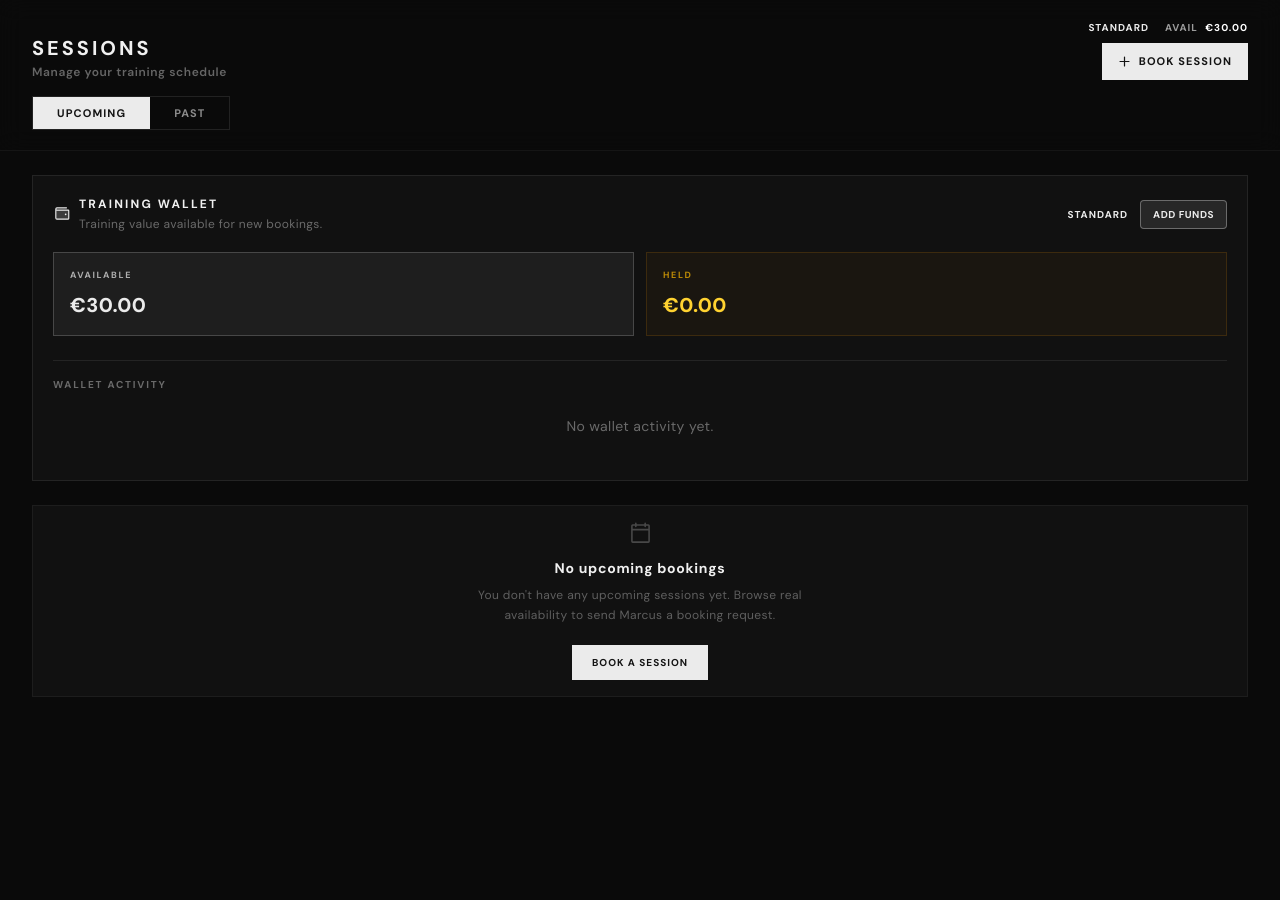
Test: Sessions booking integration › shows the exact wallet shortfall before creating a booking
Step 1. Click the button with test id "book-session-button" → (1175, 61), box left=1102, top=43, right=1248, bottom=80
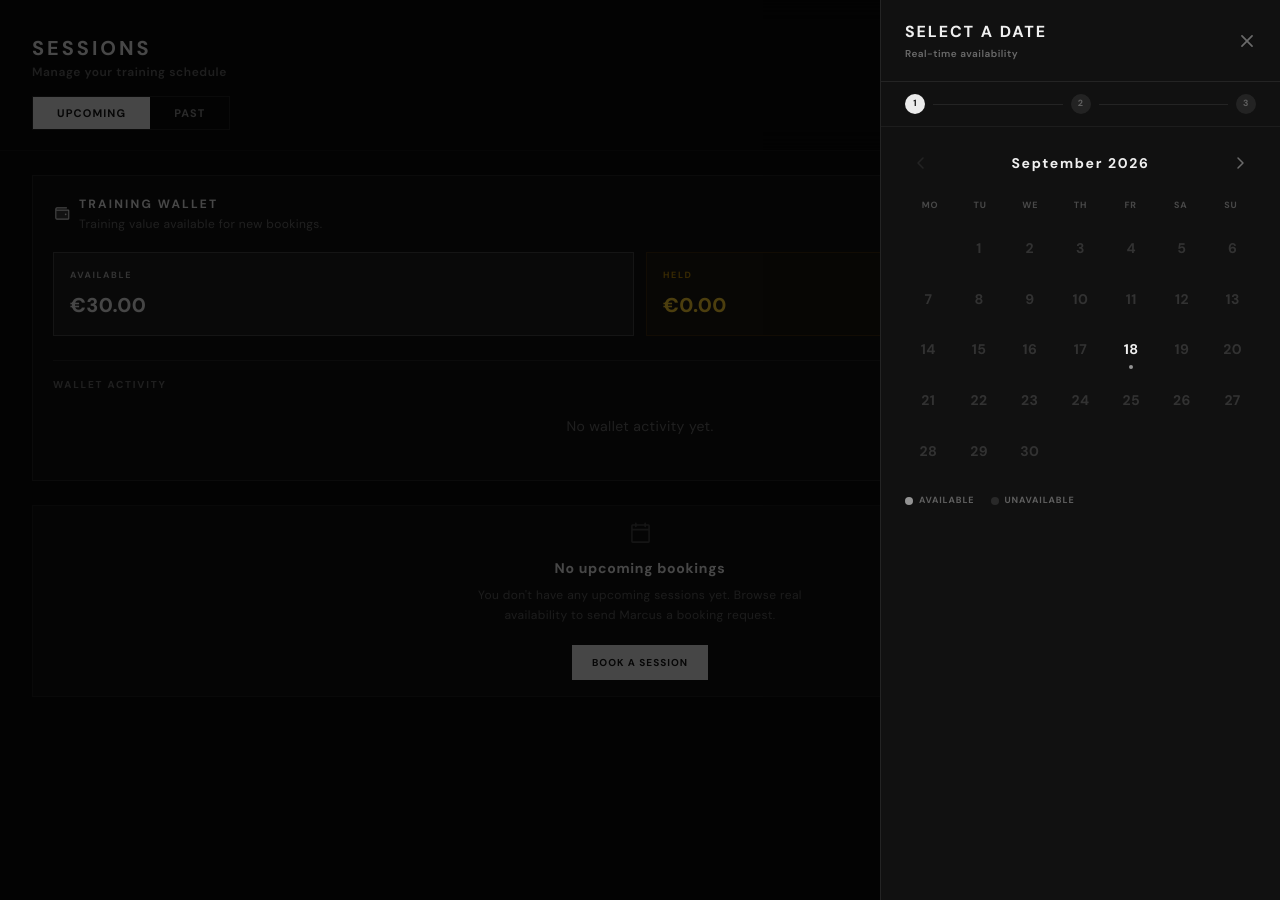
expect the element with test id "booking-sheet" is shown: met, box left=880, top=0, right=1279, bottom=899
Step 2. Click the button "18" → (1131, 349), box left=1108, top=326, right=1154, bottom=373
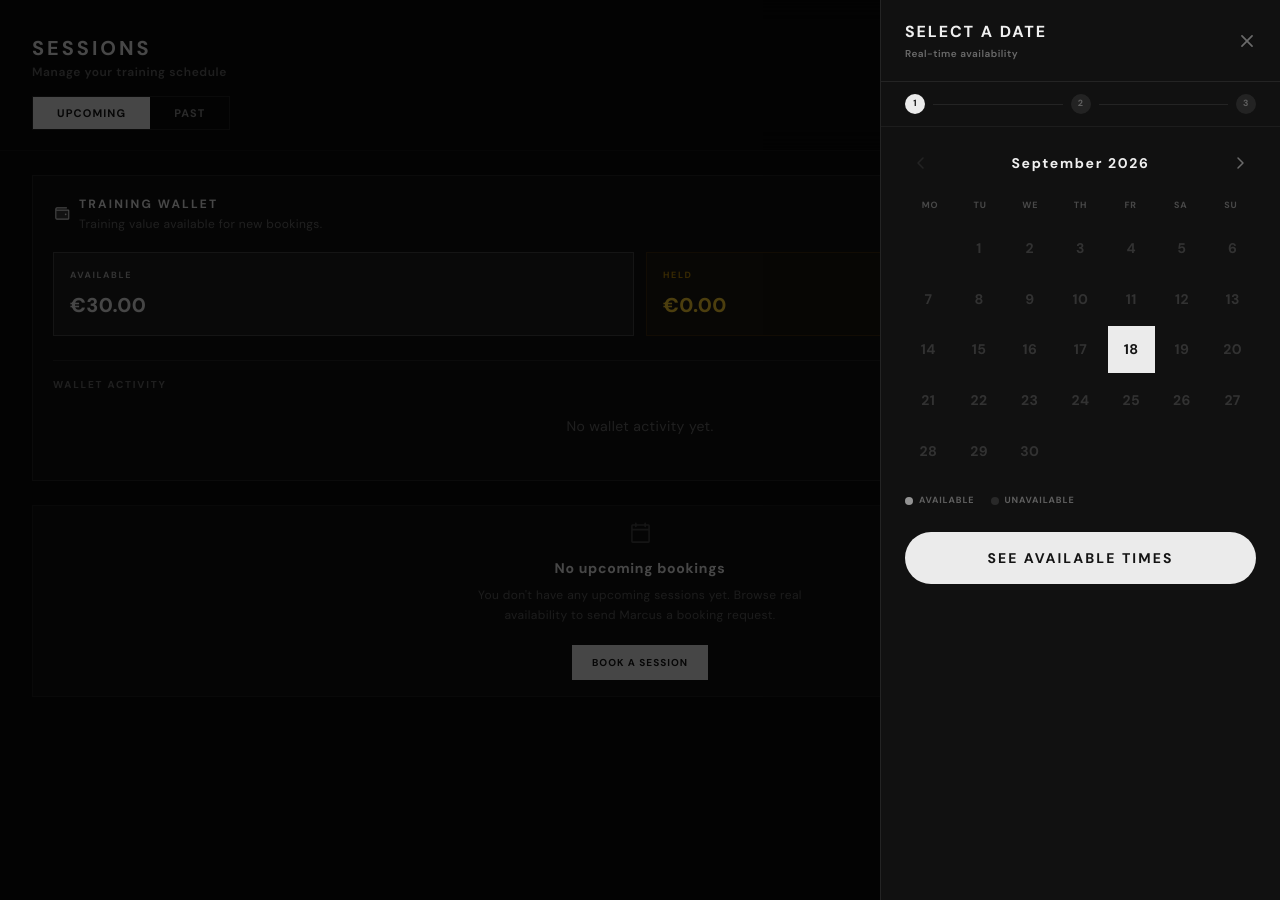
Step 3. Click the button "See Available Times" → (1080, 558), box left=905, top=532, right=1256, bottom=584
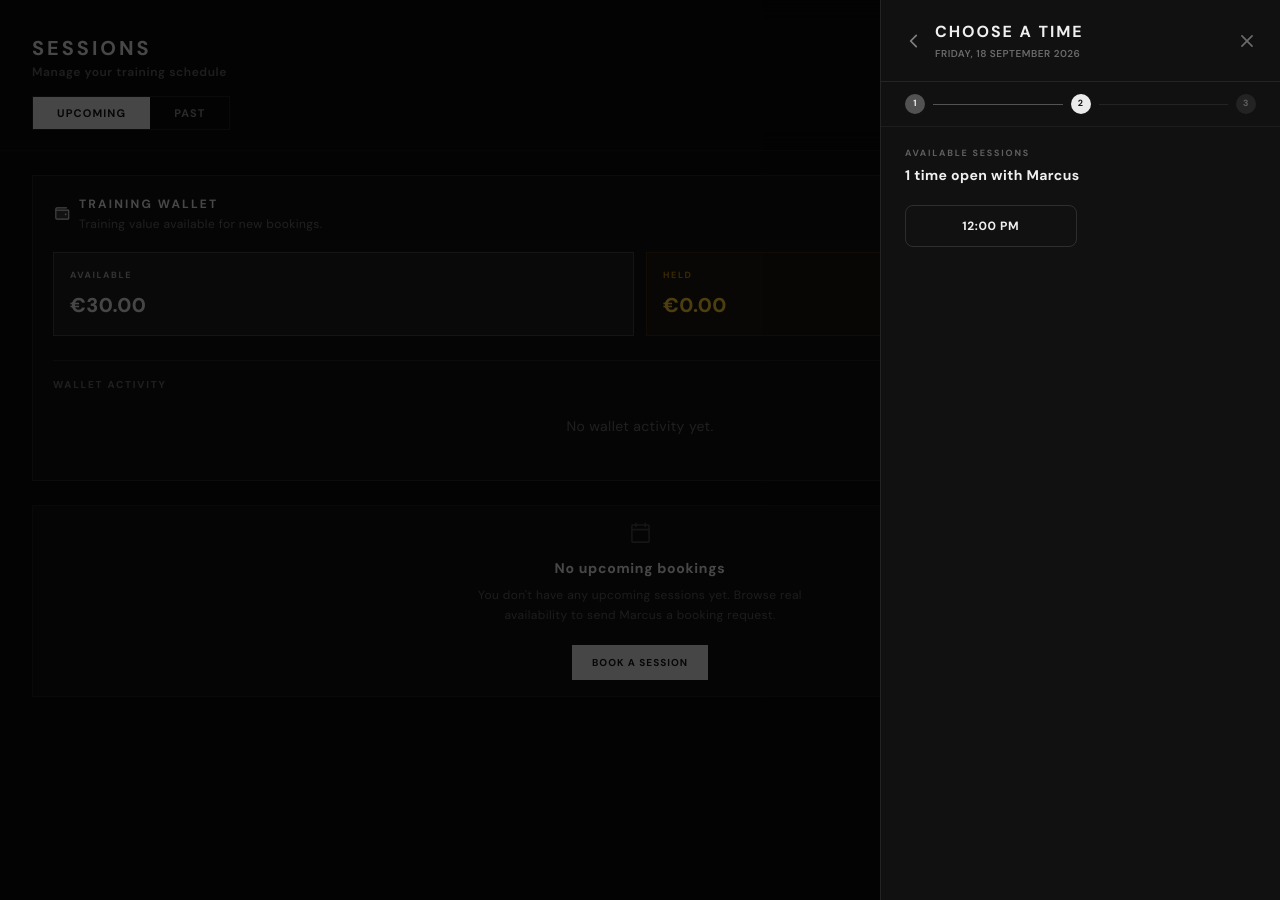
Step 4. Click the button "12:00 PM" → (991, 226), box left=905, top=204, right=1076, bottom=246
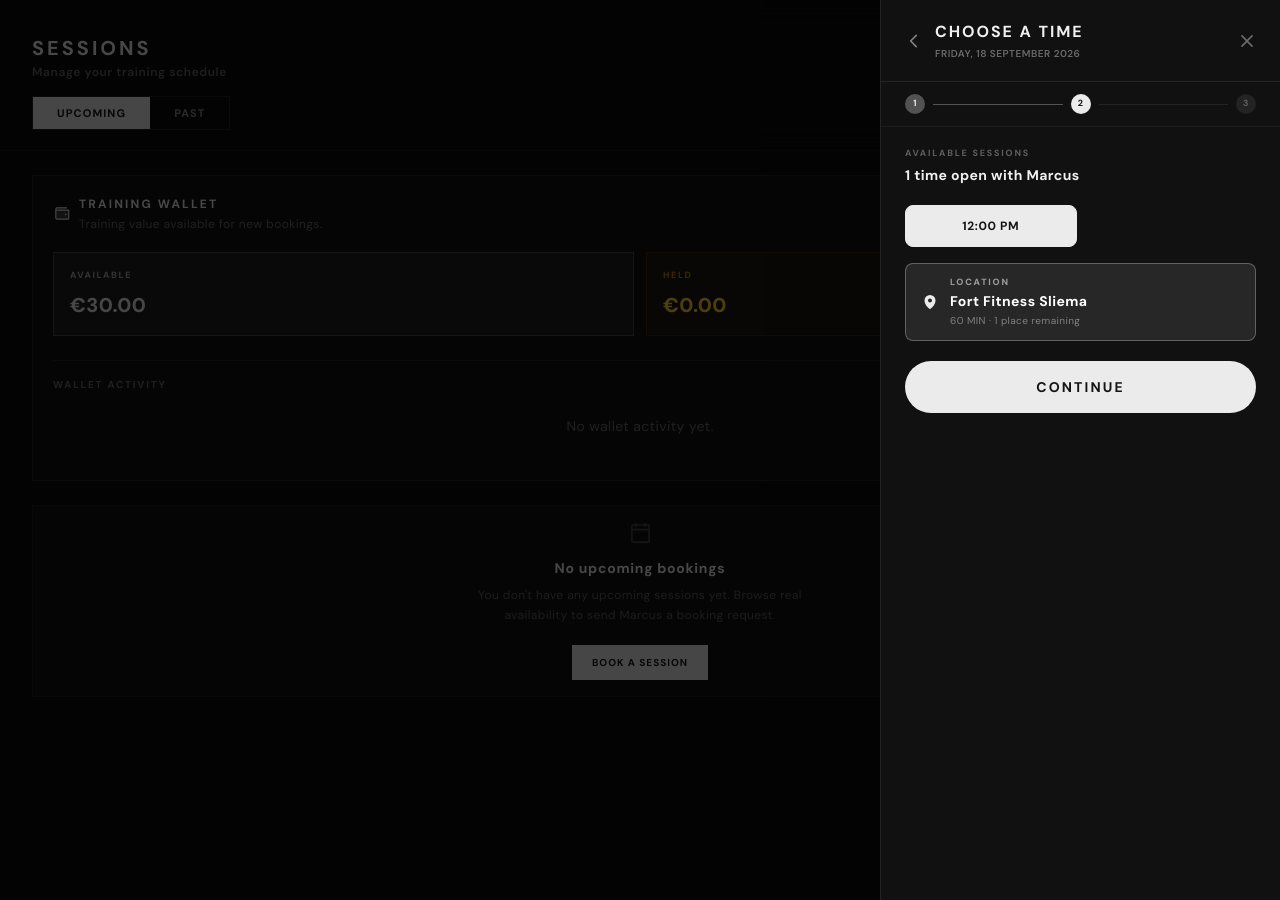
Step 5. Click the button "Continue" → (1080, 387), box left=905, top=361, right=1256, bottom=413
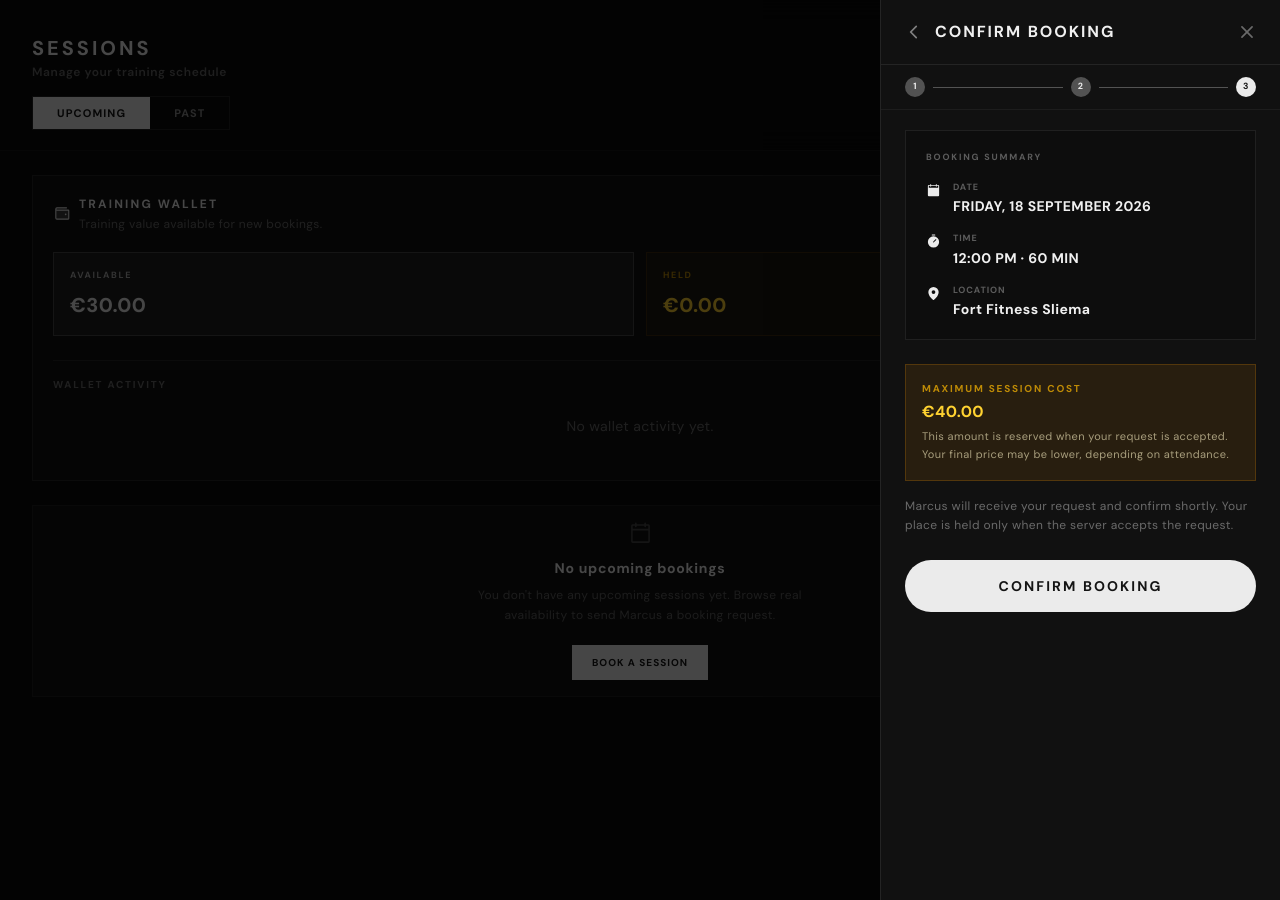
expect the button with test id "confirm-booking-button" is shown: met
Step 6. Click the button with test id "confirm-booking-button" → (1080, 586), box left=905, top=560, right=1256, bottom=612
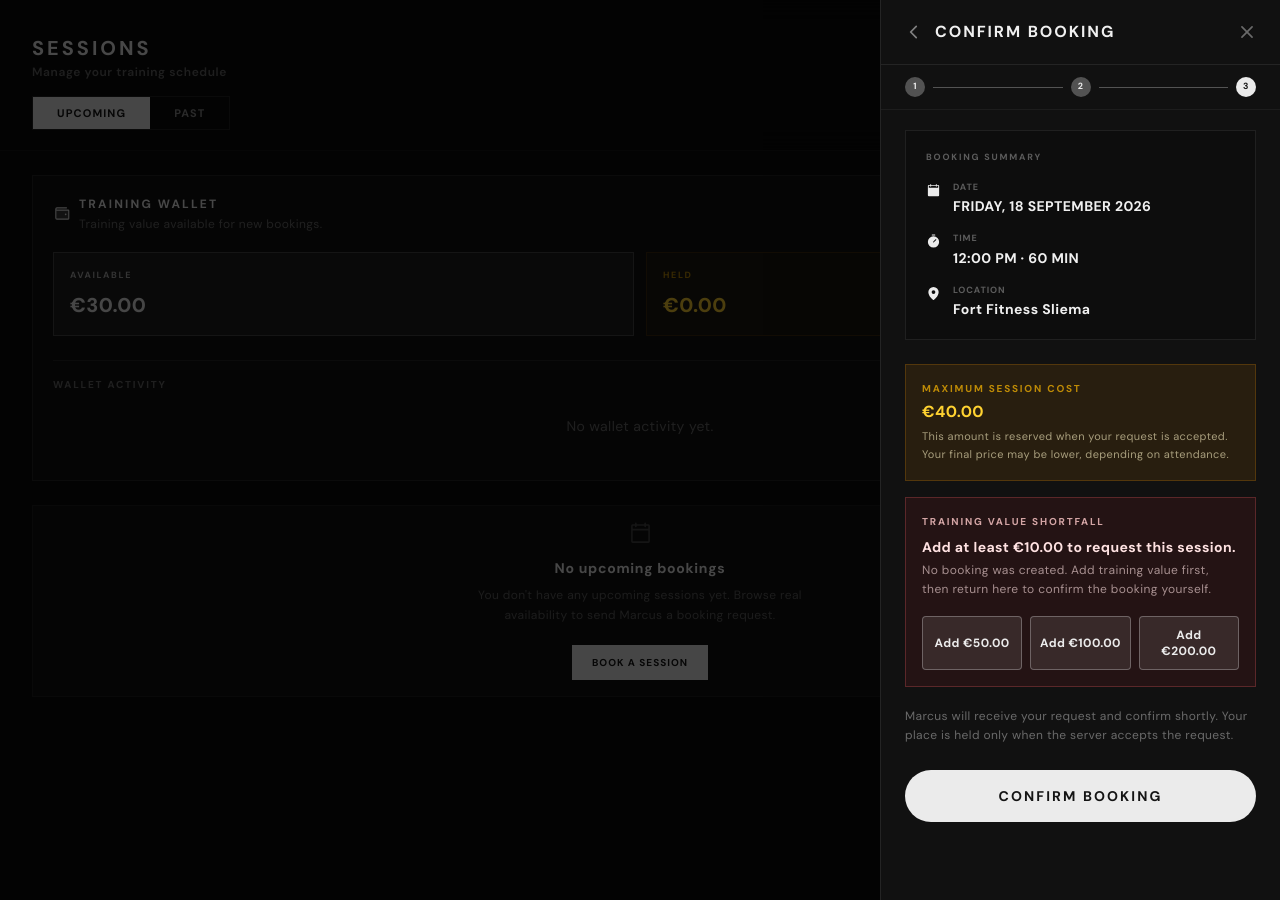
expect the message with test id "booking-shortfall" shows "Add at least €10.00": met, box left=905, top=497, right=1256, bottom=687
expect the text "No booking was created" is shown: met, box left=922, top=562, right=1211, bottom=597
